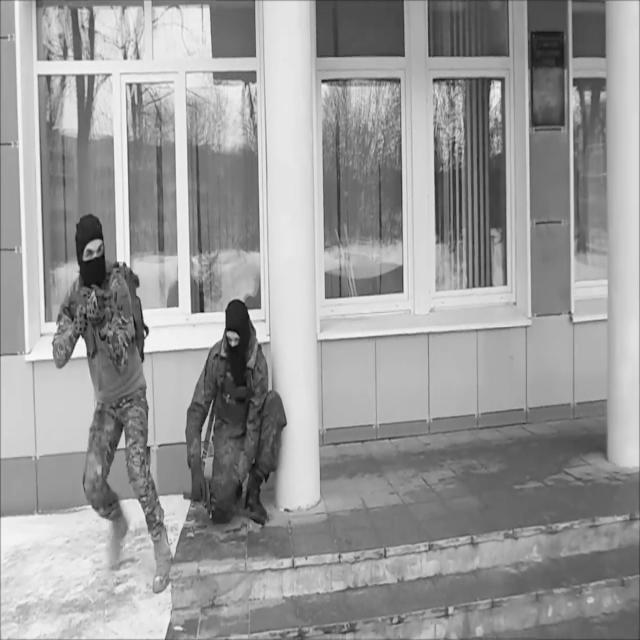gun: (68, 282, 124, 360), (190, 478, 212, 520)
person with a gun: (52, 212, 174, 594), (185, 299, 288, 527)
